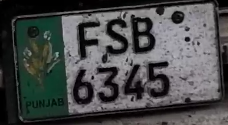FSB6345: (6, 4, 226, 120)
